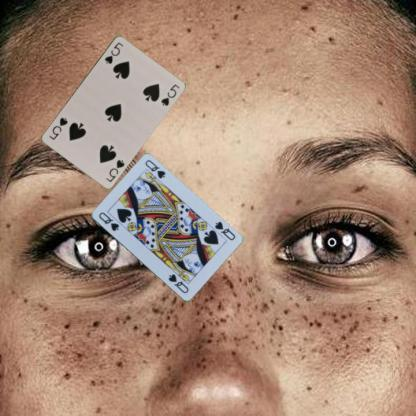5s: (104, 156, 126, 184), (101, 39, 124, 65)
Qs: (212, 219, 236, 242), (96, 210, 121, 232)
